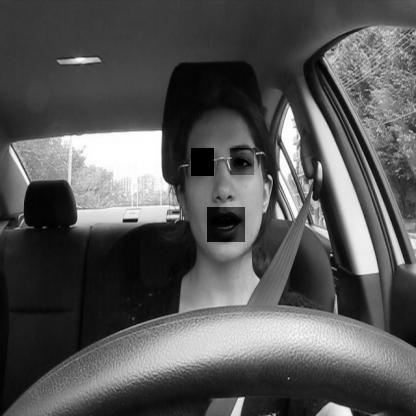seatbelt: (140, 89, 308, 416)
